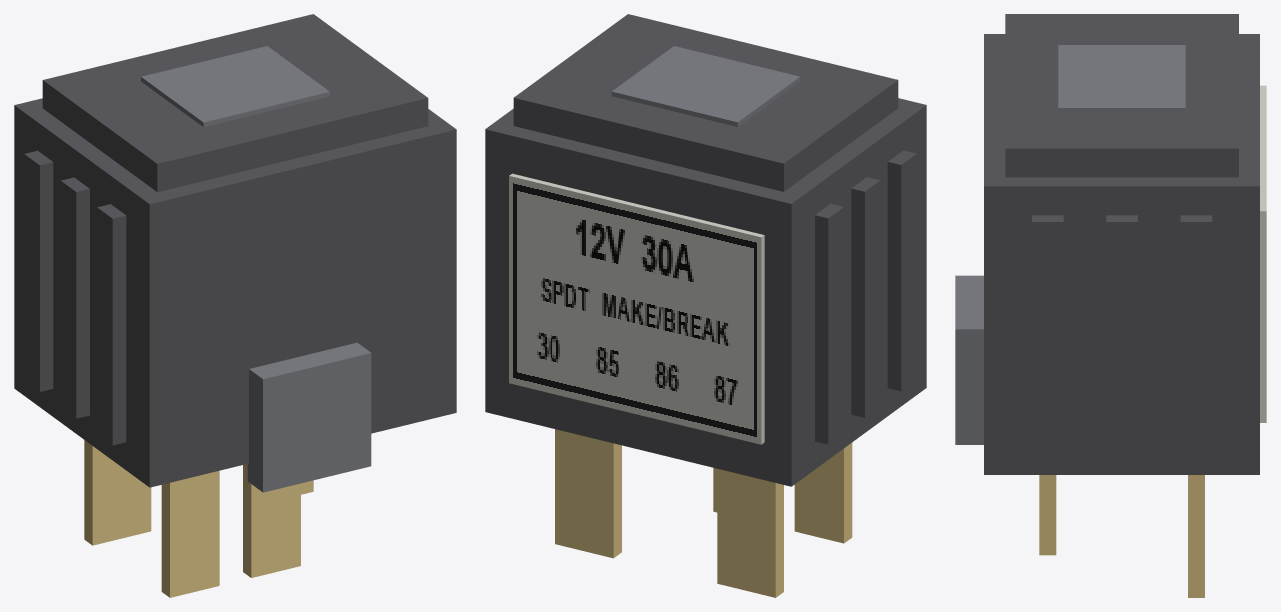
Rendered from CAR_StarterRelay.glb.
3 views of the same model, side by side, from view 1: azimuth 30°, elevation 25°; view 2: azimuth 150°, elevation 25°; view 3: azimuth 270°, elevation 25° (orthographic). The views are drawn at different scales.
Visible parts, largest first — view 1: Relay; view 2: Relay; view 3: Relay.
Boxes of the visible parts, bbox=[...] form: Relay: bbox=[14, 14, 456, 597]; Relay: bbox=[485, 14, 926, 597]; Relay: bbox=[955, 14, 1266, 597].
Bounding box in the file's own units: 0.037 × 0.0485 × 0.0293.
4 materials, 1 textured.
